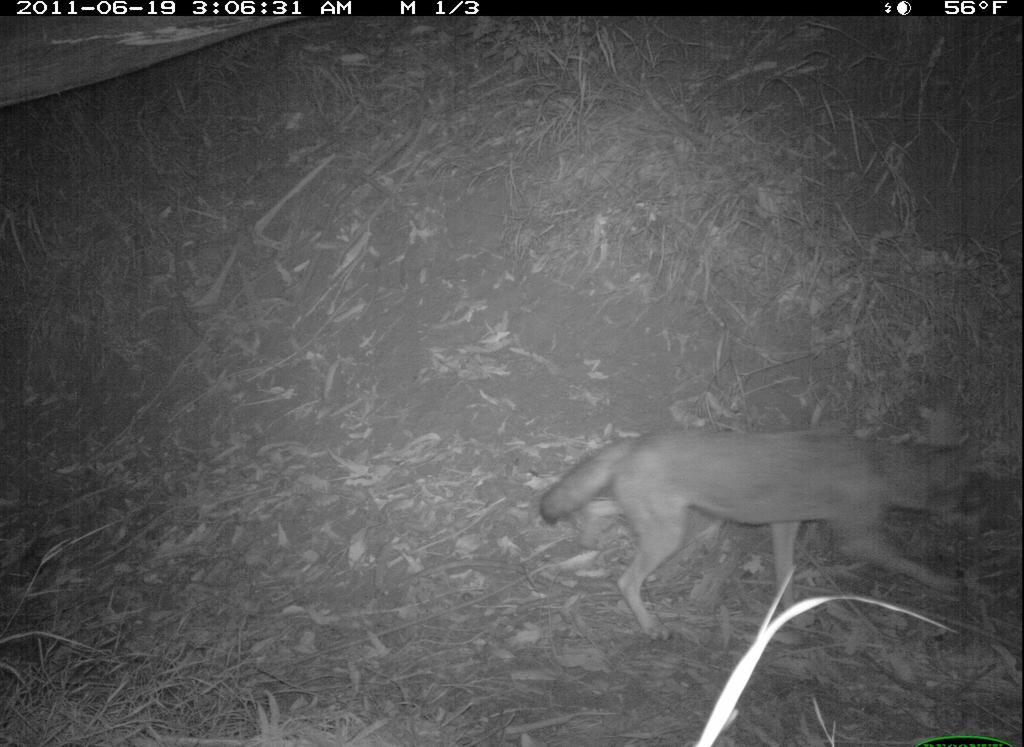coyote: (527, 420, 987, 642)
